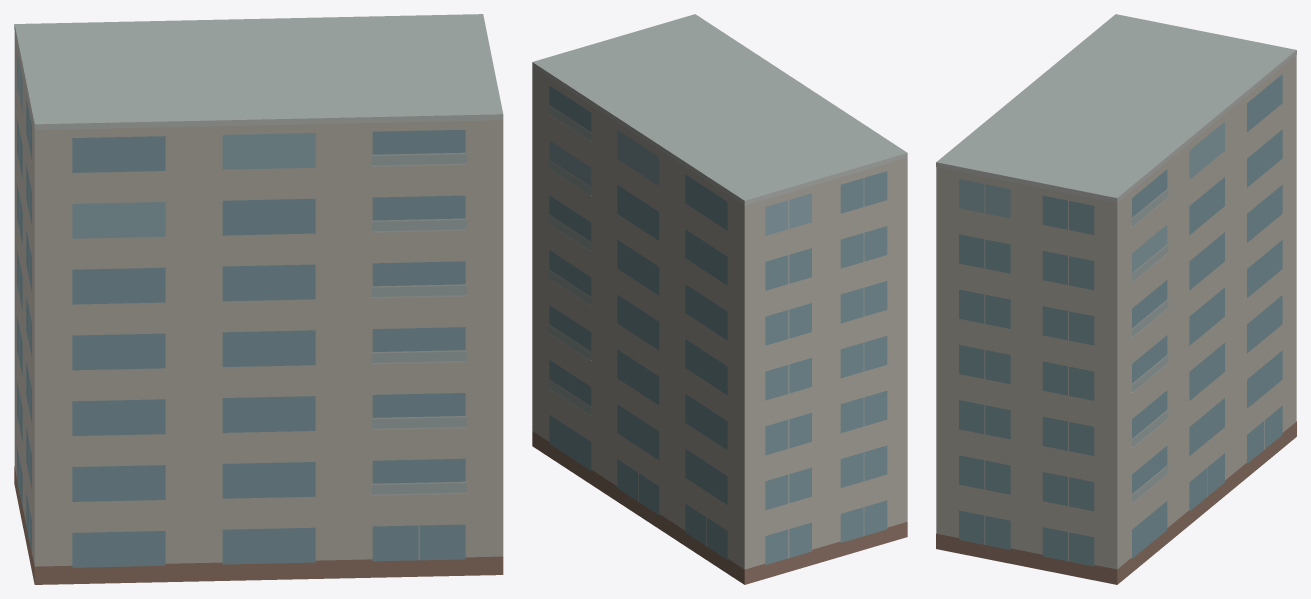
The model's file is survey-upis-32628269.glb.
The picture shows the model from 3 angles, left to right: view 1: azimuth 30°, elevation 25°; view 2: azimuth 150°, elevation 25°; view 3: azimuth 270°, elevation 25°; orthographic projection. The views are drawn at different scales.
Parts seen in each view (by area): view 1: survey-upis-32628269.tmp; view 2: survey-upis-32628269.tmp; view 3: survey-upis-32628269.tmp.
Part boxes in pixels (x1=…): survey-upis-32628269.tmp: x1=14, y1=14, x2=503, y2=584; survey-upis-32628269.tmp: x1=532, y1=14, x2=907, y2=584; survey-upis-32628269.tmp: x1=936, y1=14, x2=1296, y2=584.
Size of the model in its own units: 19.82 by 19.4 by 16.4.
